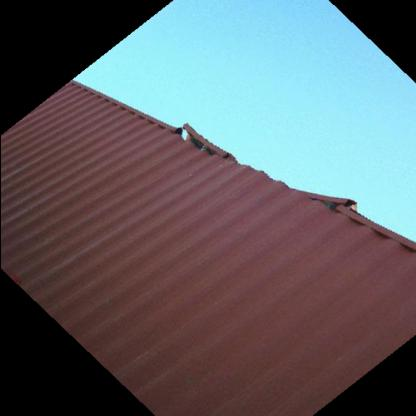Damage: (166, 110, 249, 168), (278, 176, 358, 224)
